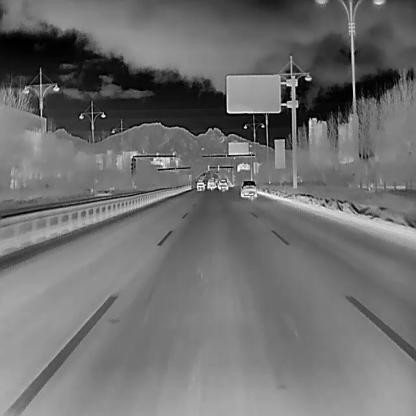car: (239, 180, 256, 198), (216, 177, 228, 191), (196, 179, 206, 191), (206, 178, 216, 189)
